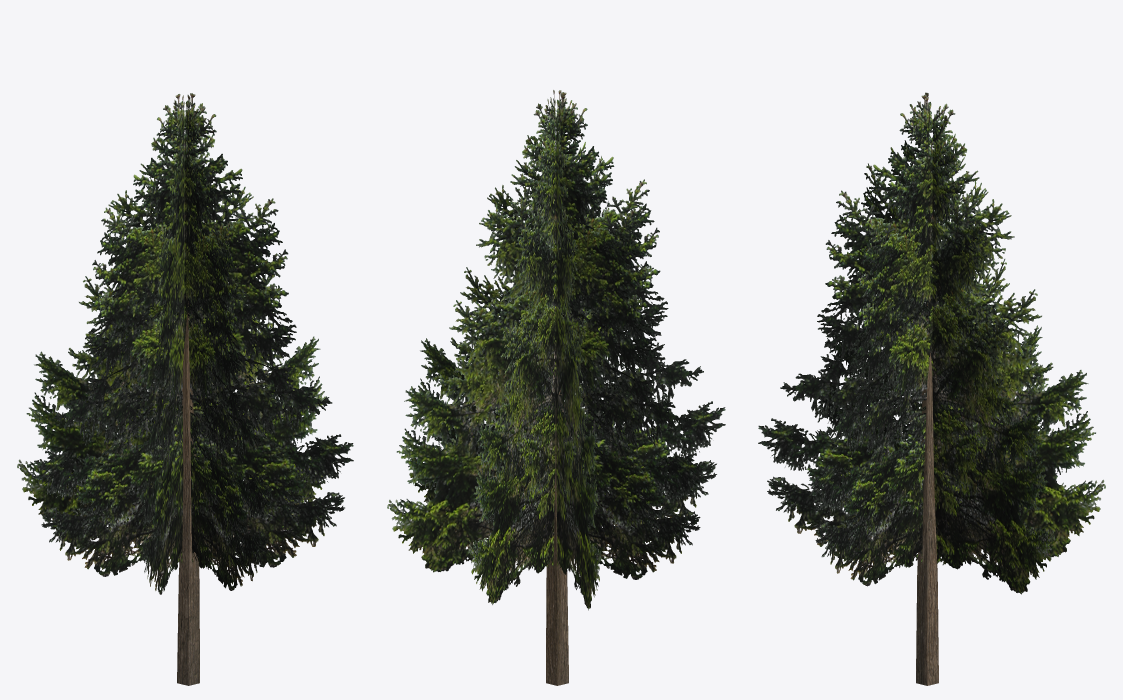
Rendered from LowPoly_Tree.fbx.
The picture shows the model from 3 angles, left to right: view 1: azimuth 30°, elevation 25°; view 2: azimuth 150°, elevation 25°; view 3: azimuth 270°, elevation 25°; orthographic projection.
Parts seen in each view (by area): view 1: polySurface1; view 2: polySurface1; view 3: polySurface1.
Boxes of the visible parts, bbox=[...] form: polySurface1: bbox=[17, 93, 353, 685]; polySurface1: bbox=[387, 90, 725, 685]; polySurface1: bbox=[758, 92, 1105, 685].
Bounding box in the file's own units: 8 × 14.79 × 8.
5 materials, 5 textured.
